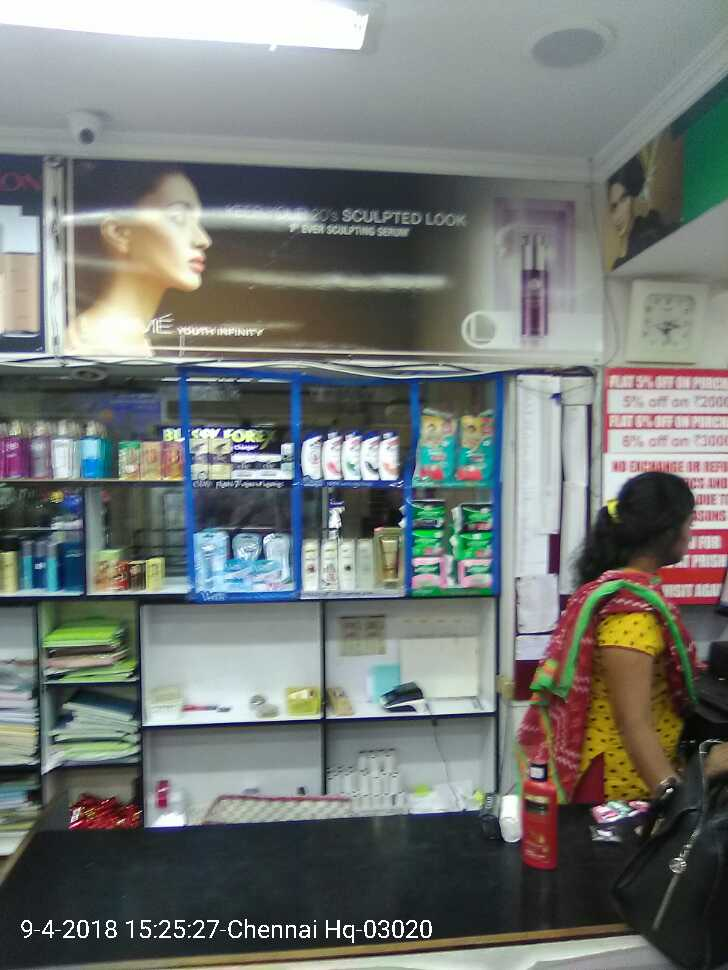venus: (198, 532, 223, 591), (251, 561, 281, 590), (225, 563, 251, 590), (234, 532, 259, 558), (266, 535, 290, 561)
